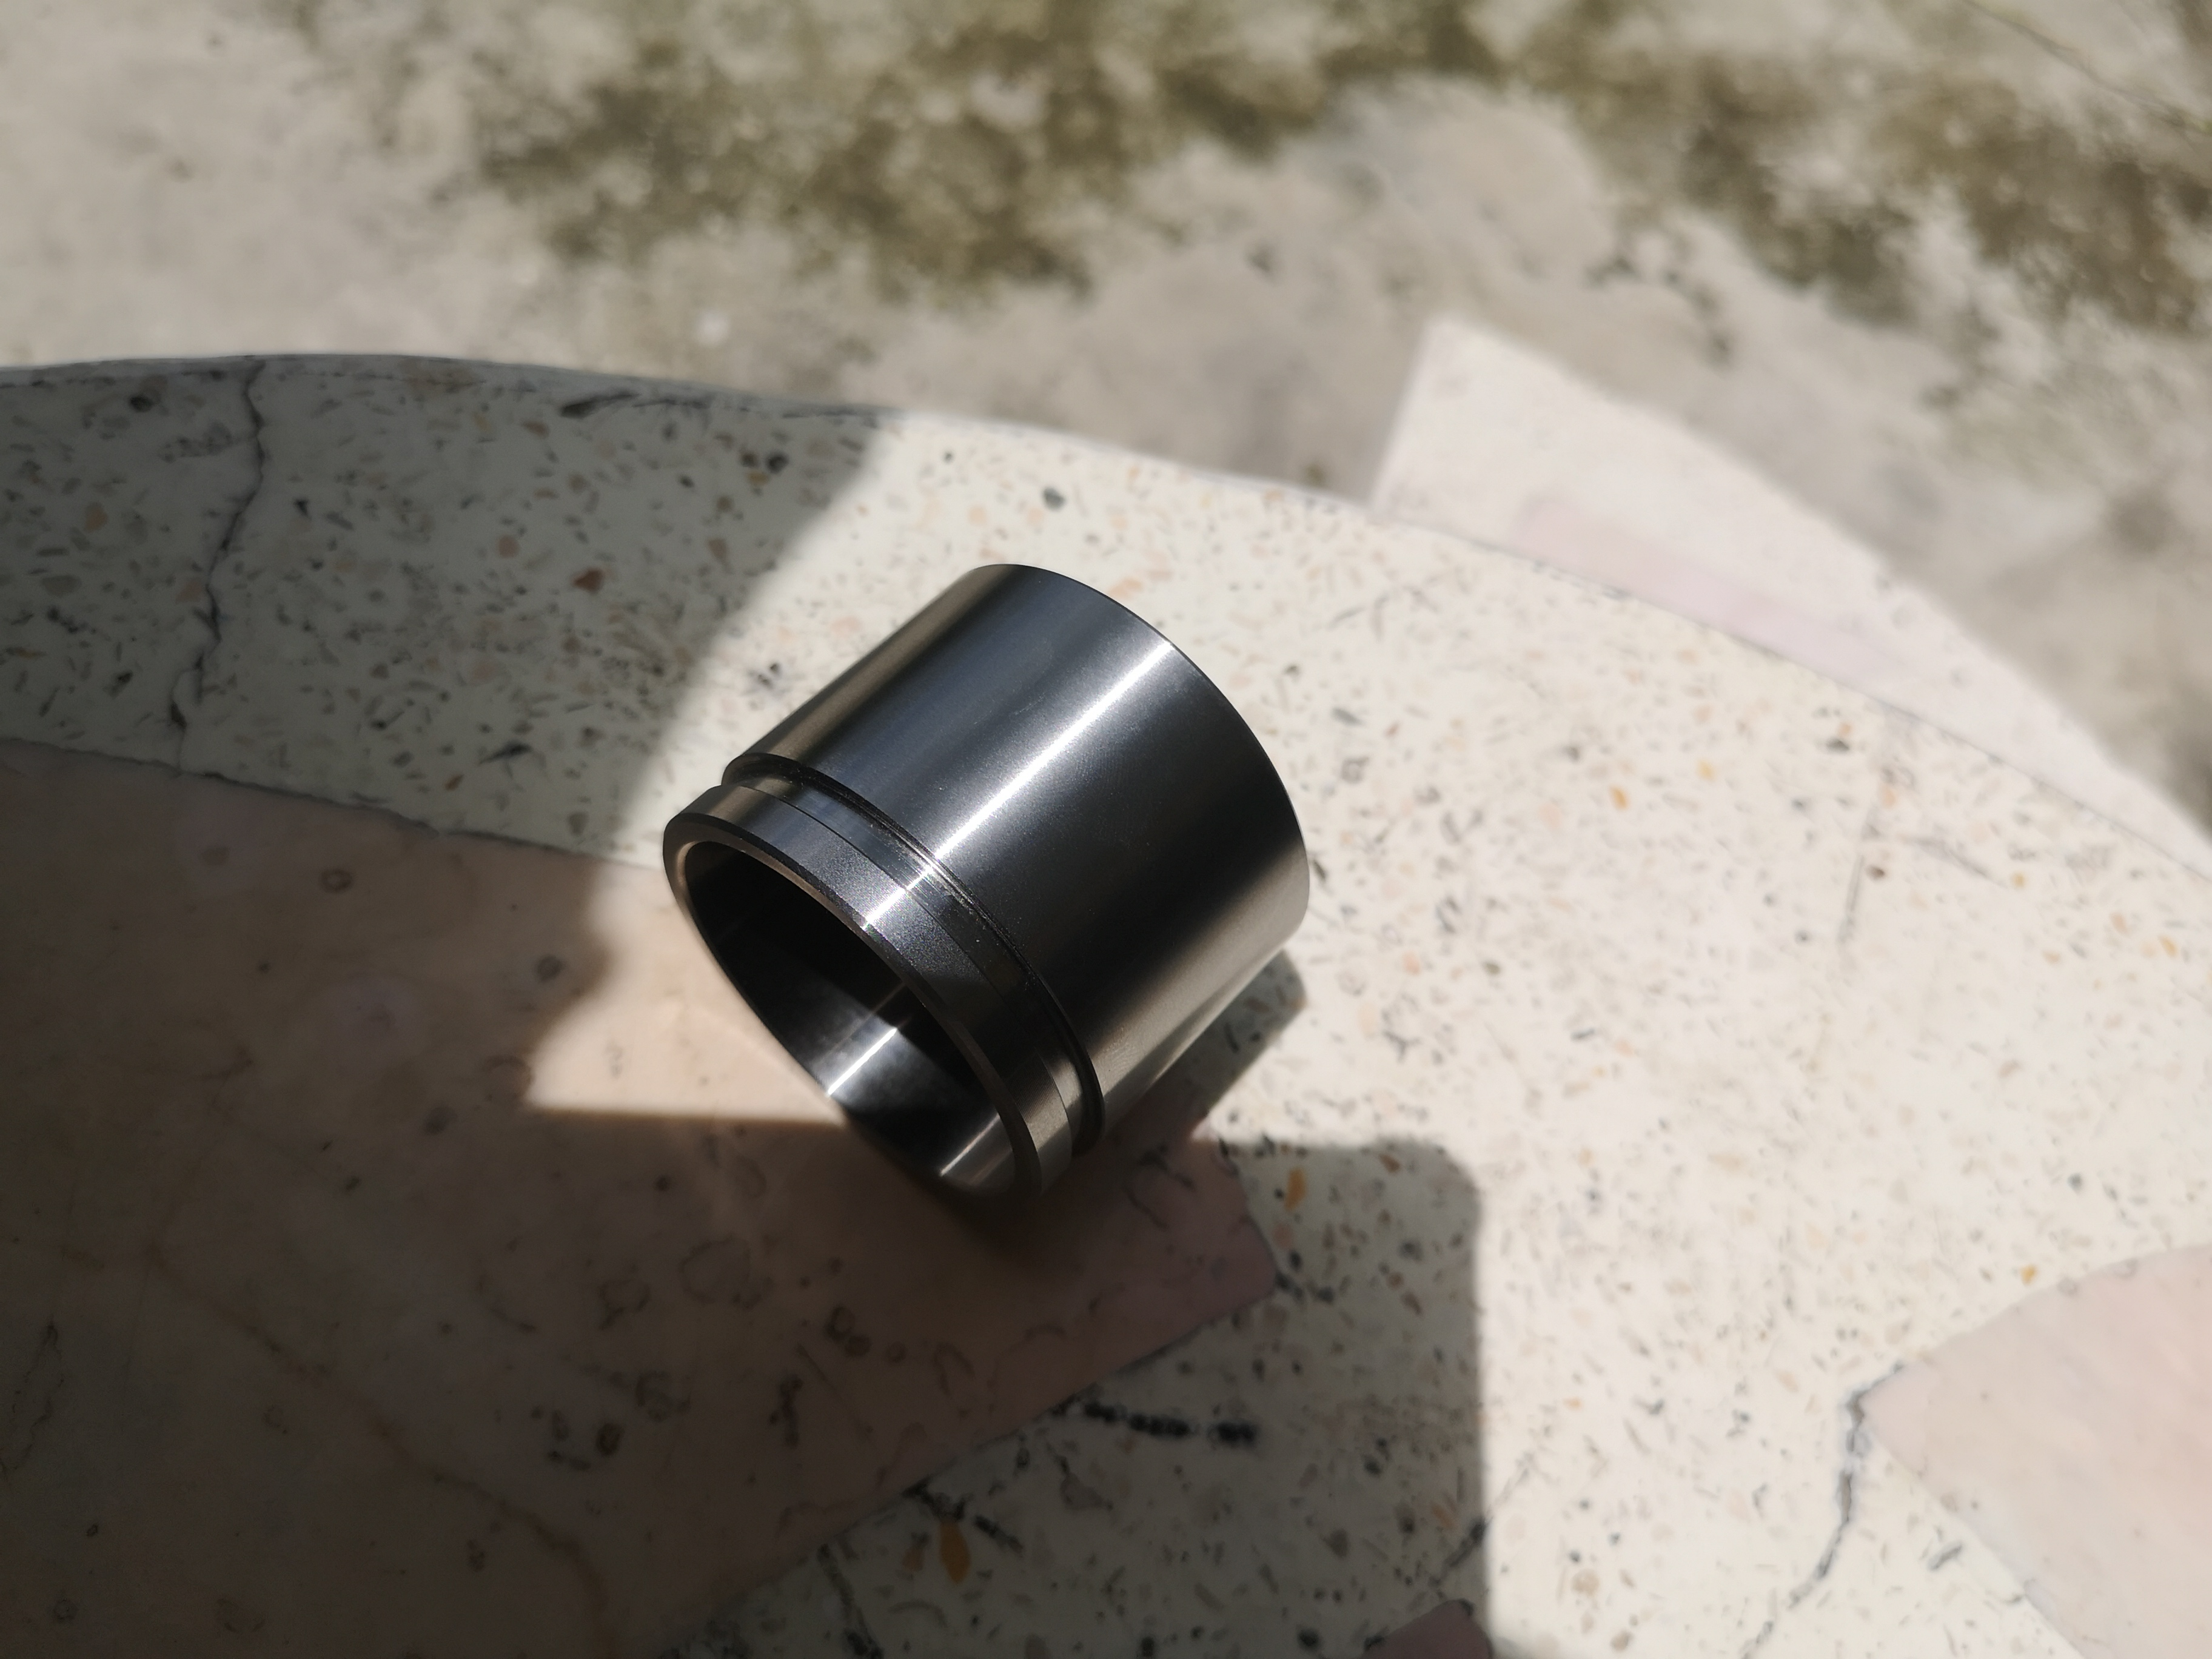ลูกสูบดิสเบรค: (662, 514, 1386, 1239)
